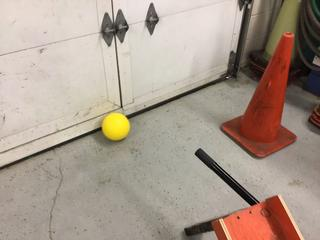power_cell: (99, 110, 133, 142)
